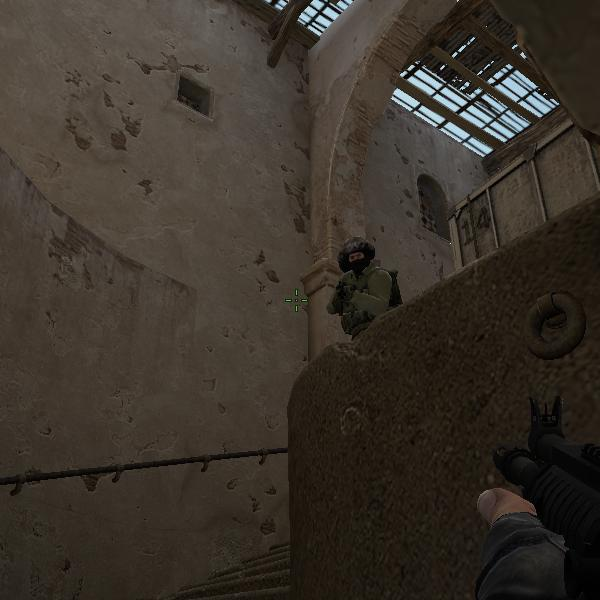ct_body: (325, 234, 404, 332)
ct_head: (340, 235, 375, 277)
